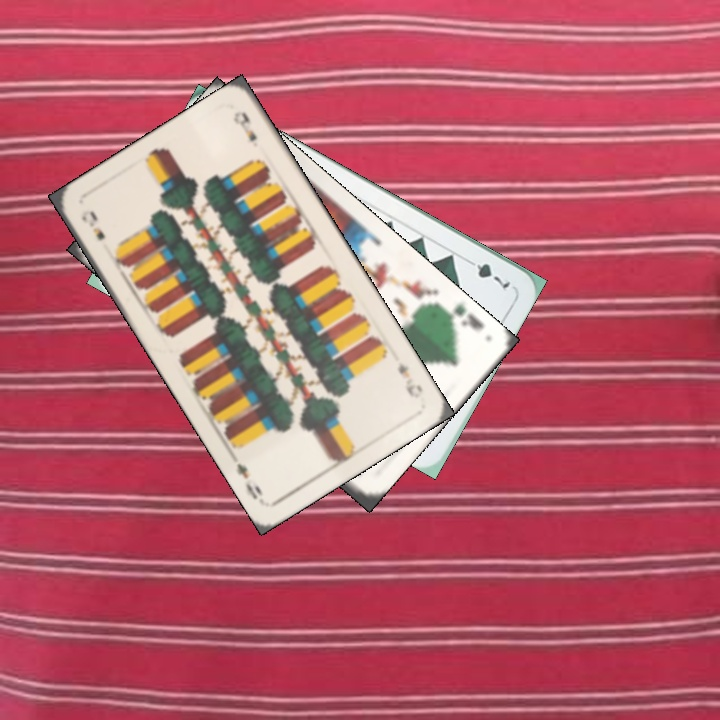E9: (393, 358, 426, 401), (77, 206, 108, 243)
G7: (461, 254, 514, 293)
GK: (436, 299, 487, 333)
